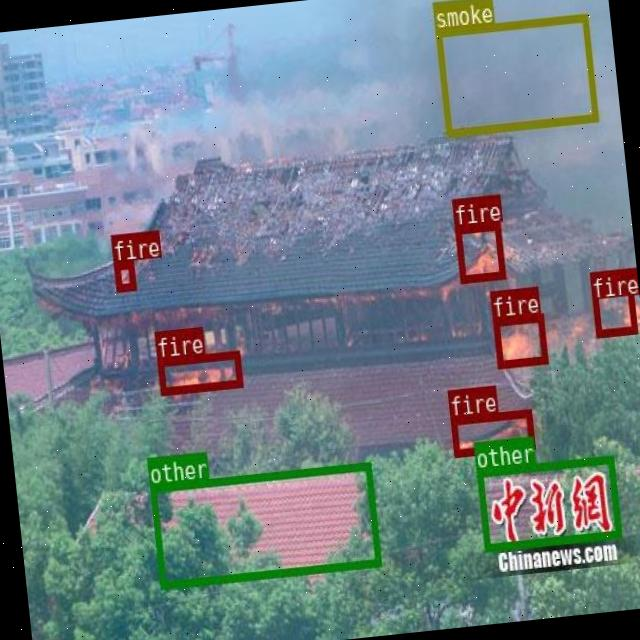fire: (449, 408, 534, 456), (157, 350, 241, 393), (588, 266, 636, 336), (454, 220, 504, 281), (492, 313, 546, 366), (113, 260, 135, 292)
smoke: (434, 12, 598, 134)
